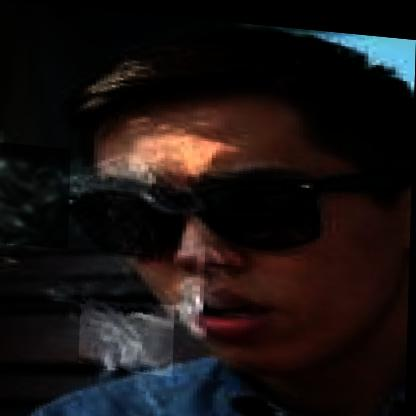smoke: (0, 142, 72, 248), (81, 295, 176, 373)
